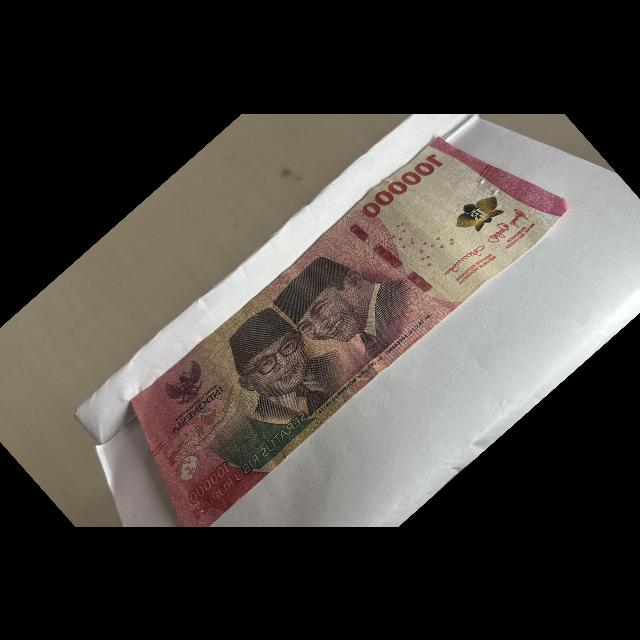Palsu-100k: (108, 91, 579, 526)
Tinta-Palsu-100k: (447, 181, 510, 242)
